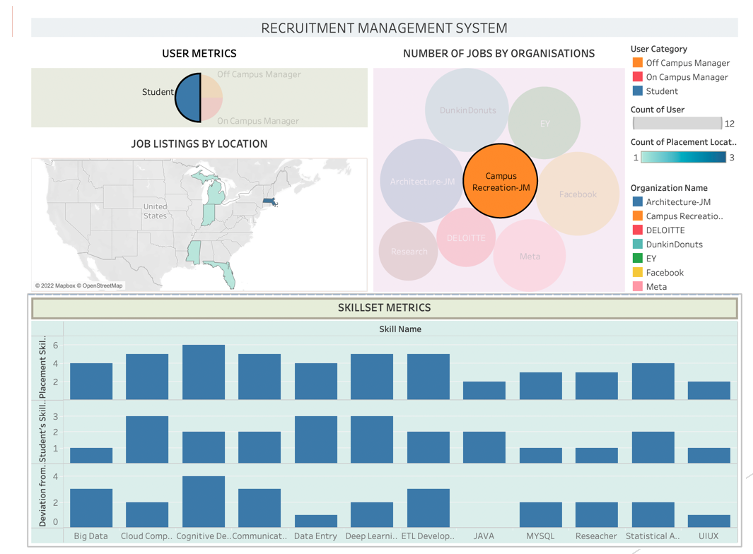

Layout of this report page (visuals, bound fields, positions):
{"tool":"tableau","page":{"name":"Dashboard 1","canvas":[1024,768],"ordinal":0},"visuals":[{"type":"title","box":[8,8,1008,35]},{"type":"worksheet","title":"Sheet 1","mark":"Pie","box":[8,43,483.7,128]},{"type":"worksheet","title":"Sheet 4","mark":"Circle","box":[491.7,43,364.3,361]},{"type":"legend","title":"Sheet 1","param":"[federated.0at0a6a0v536wk16bmjuu10f9n8s].[none:Category_Name:nk]","box":[856,43,160,22]},{"type":"legend","title":"Sheet 1","param":"[federated.0at0a6a0v536wk16bmjuu10f9n8s].[cnt:Login_ID:qk]","box":[856,65,160,22]},{"type":"legend","title":"Sheet 3","param":"[federated.0at0a6a0v536wk16bmjuu10f9n8s].[cnt:Placement_LocationID:qk]","box":[856,87,160,22]},{"type":"legend","title":"Sheet 4","param":"[federated.0at0a6a0v536wk16bmjuu10f9n8s].[none:Organization_Name:nk]","box":[856,109,160,22]},{"type":"worksheet","title":"Sheet 3","mark":"Multipolygon","box":[8,171,483.7,233]},{"type":"worksheet","title":"Sheet 2","mark":"Automatic","rows":["PlacementListingID","Student_ID (studentSkillset .csv)","Calculation_4677128984396996611"],"cols":["Skill_Name"],"box":[8,404,1008,356]}]}

Visuals, with their boxes in screenshot pixels (x1, y1, x2, y2), scaled from the page's 1024x768 canvas onto the 753x554 screenshot:
title: 6:6:747:31
"Sheet 1" worksheet (Pie marks): 6:31:362:123
"Sheet 4" worksheet (Circle marks): 362:31:629:291
"Sheet 1" legend: 629:31:747:47
"Sheet 1" legend: 629:47:747:63
"Sheet 3" legend: 629:63:747:79
"Sheet 4" legend: 629:79:747:94
"Sheet 3" worksheet (Multipolygon marks): 6:123:362:291
"Sheet 2" worksheet: 6:291:747:548
